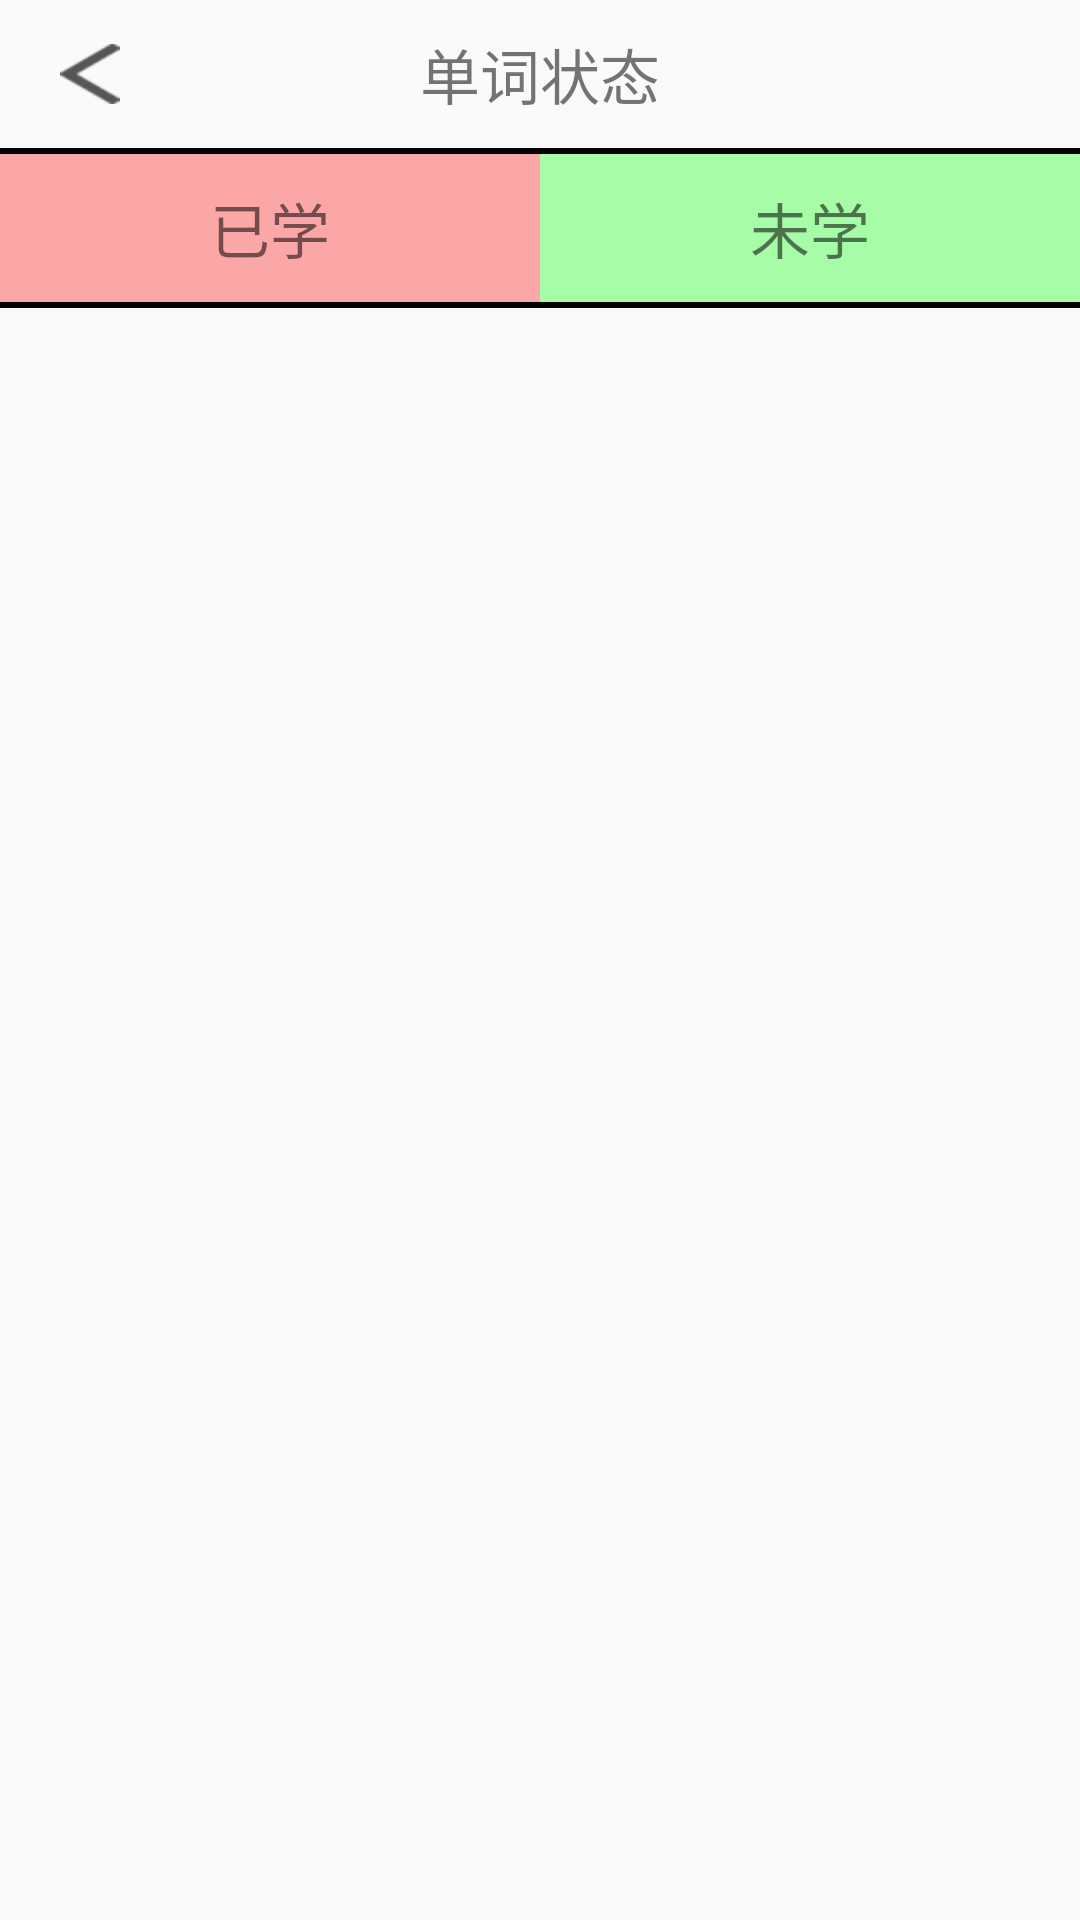

Icon bounding boxes for this 1080px x 1920px phone screenshot, format box=[x1, y1, x2, y2]:
back: box=[60, 44, 120, 104]
